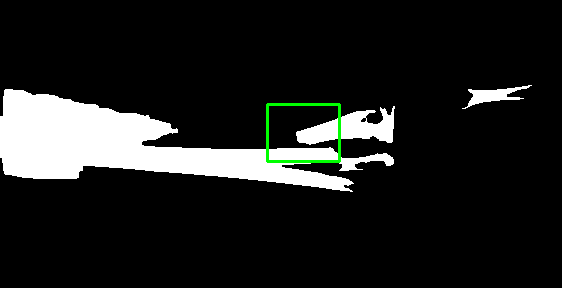fracture: (267, 104, 339, 161)
